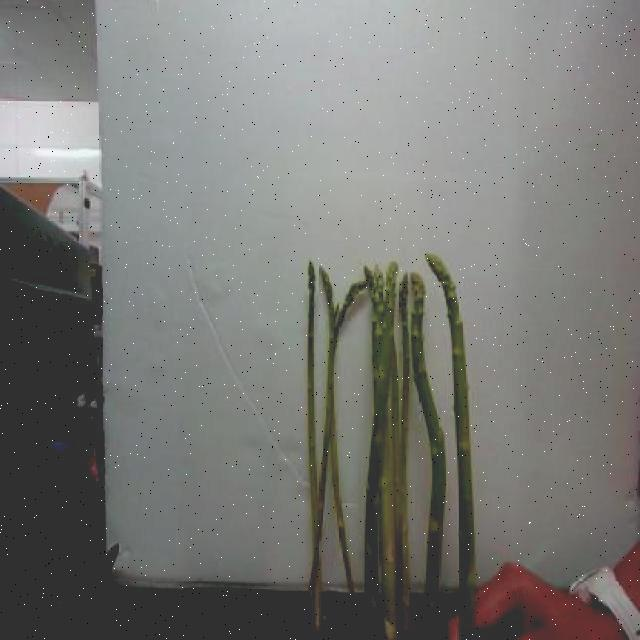aspargus: (429, 256, 479, 594)
